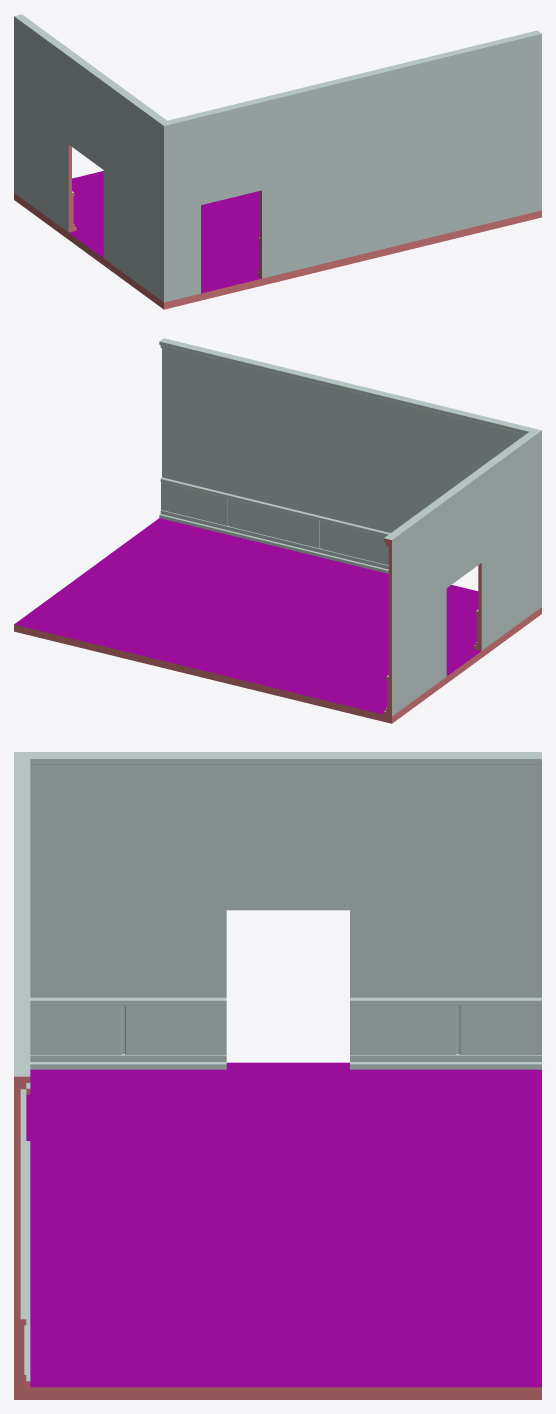
File: Bathroom.fbx
3 renders of one model, top to bottom at view 1: azimuth 30°, elevation 25°; view 2: azimuth 150°, elevation 25°; view 3: azimuth 270°, elevation 25°, orthographic. The views are drawn at different scales.
Visible parts, largest first — view 1: polySurface189; view 2: polySurface189; view 3: polySurface189.
Boxes of the visible parts, x1,y1,x2,y2 form: polySurface189: (14, 14, 541, 309); polySurface189: (14, 338, 541, 723); polySurface189: (14, 752, 541, 1399).
Bounding box in the file's own units: 112 × 52 × 77.
